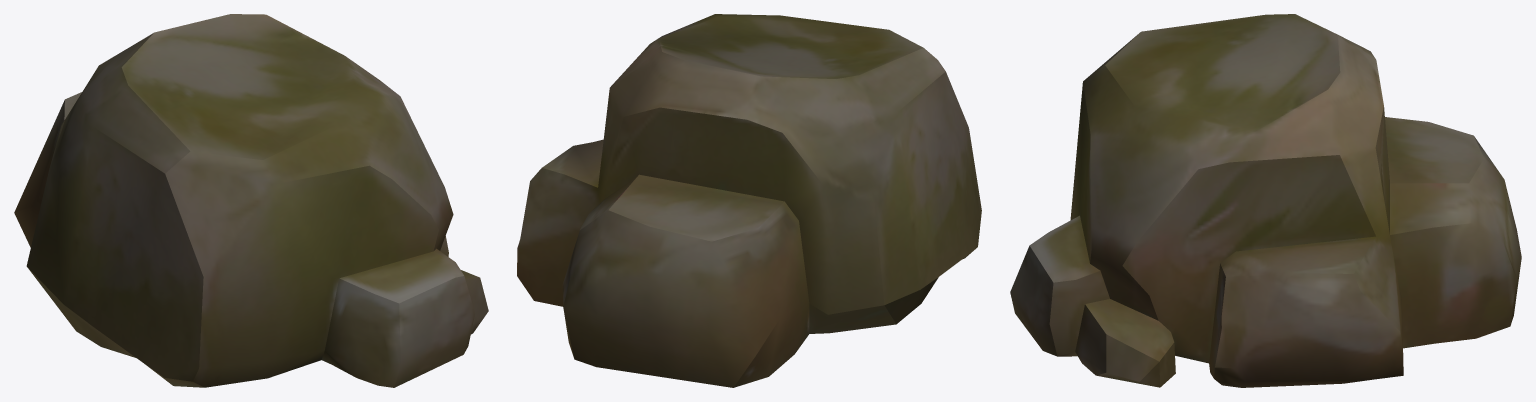
File: Stone_A_001_004.fbx
The picture shows the model from 3 angles, left to right: view 1: azimuth 30°, elevation 25°; view 2: azimuth 150°, elevation 25°; view 3: azimuth 270°, elevation 25°; orthographic projection. The views are drawn at different scales.
Parts seen in each view (by area): view 1: Stone_A_001_004_LOD0; view 2: Stone_A_001_004_LOD0; view 3: Stone_A_001_004_LOD0.
Boxes of the visible parts, <box> form: Stone_A_001_004_LOD0: <box>14,14,488,387</box>; Stone_A_001_004_LOD0: <box>517,14,981,387</box>; Stone_A_001_004_LOD0: <box>1010,14,1521,387</box>.
Size of what is drawn, in the model's own units: 422 by 288 by 526.
Materials: 1 (1 with a texture image).
